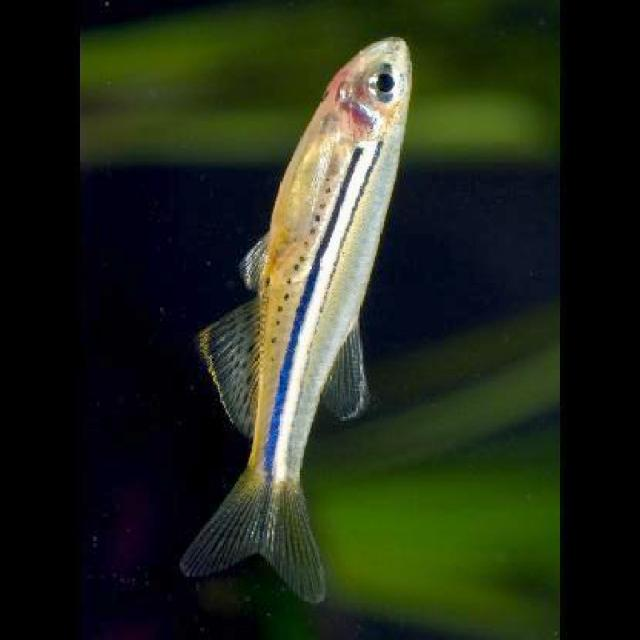ZebraFish: (178, 35, 416, 602)
